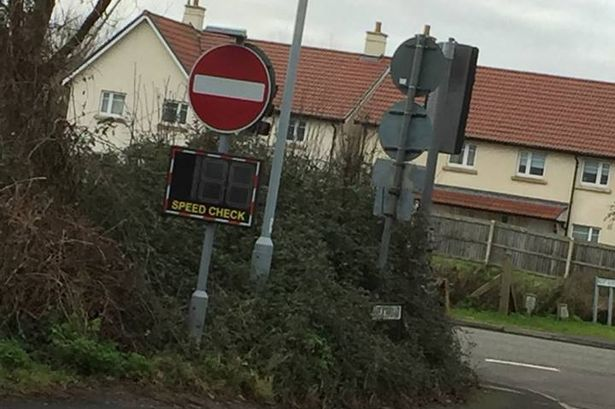No_entry: (187, 42, 272, 133)
